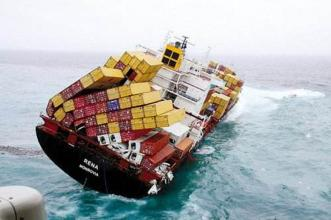Cargoship: (34, 26, 245, 194)
